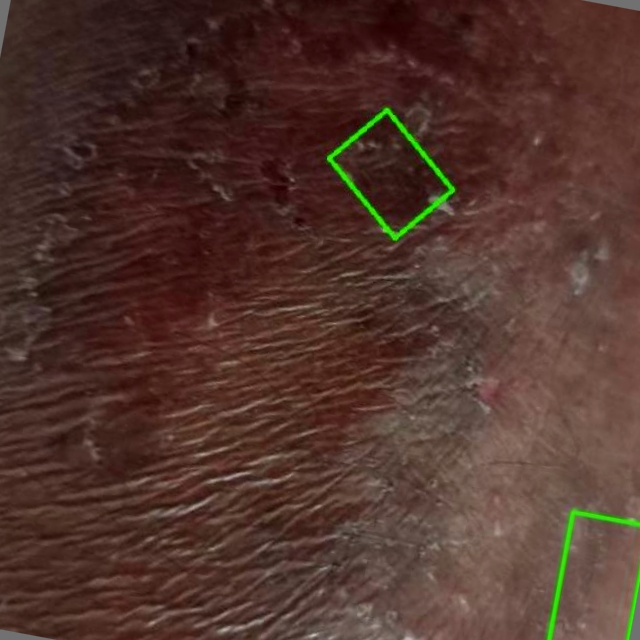Tinea Corporis: (328, 110, 452, 237)
